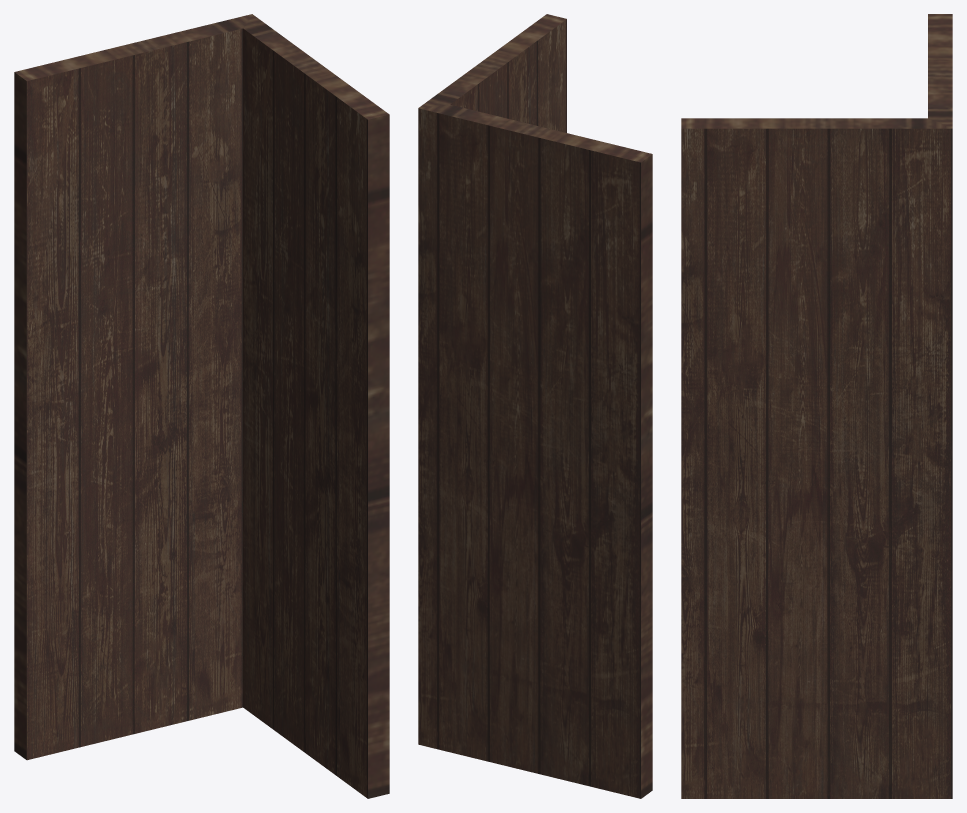
Rendered from Bibliothek_Wall_MainCorner.fbx.
3 views of the same model, side by side, from view 1: azimuth 30°, elevation 25°; view 2: azimuth 150°, elevation 25°; view 3: azimuth 270°, elevation 25° (orthographic). The views are drawn at different scales.
Parts seen in each view (by area): view 1: Bibliothek_Wall_MainCorner; view 2: Bibliothek_Wall_MainCorner; view 3: Bibliothek_Wall_MainCorner.
Part boxes in pixels (<box>): Bibliothek_Wall_MainCorner: <box>14,14,389,798</box>; Bibliothek_Wall_MainCorner: <box>418,14,652,798</box>; Bibliothek_Wall_MainCorner: <box>681,14,952,798</box>.
Size of the model in its own units: 110 by 300 by 110.
